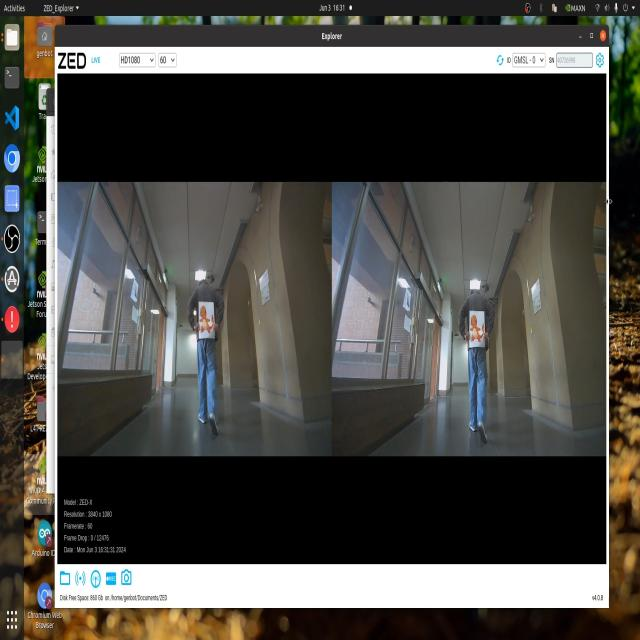red: (464, 315, 489, 351), (197, 300, 218, 335)
